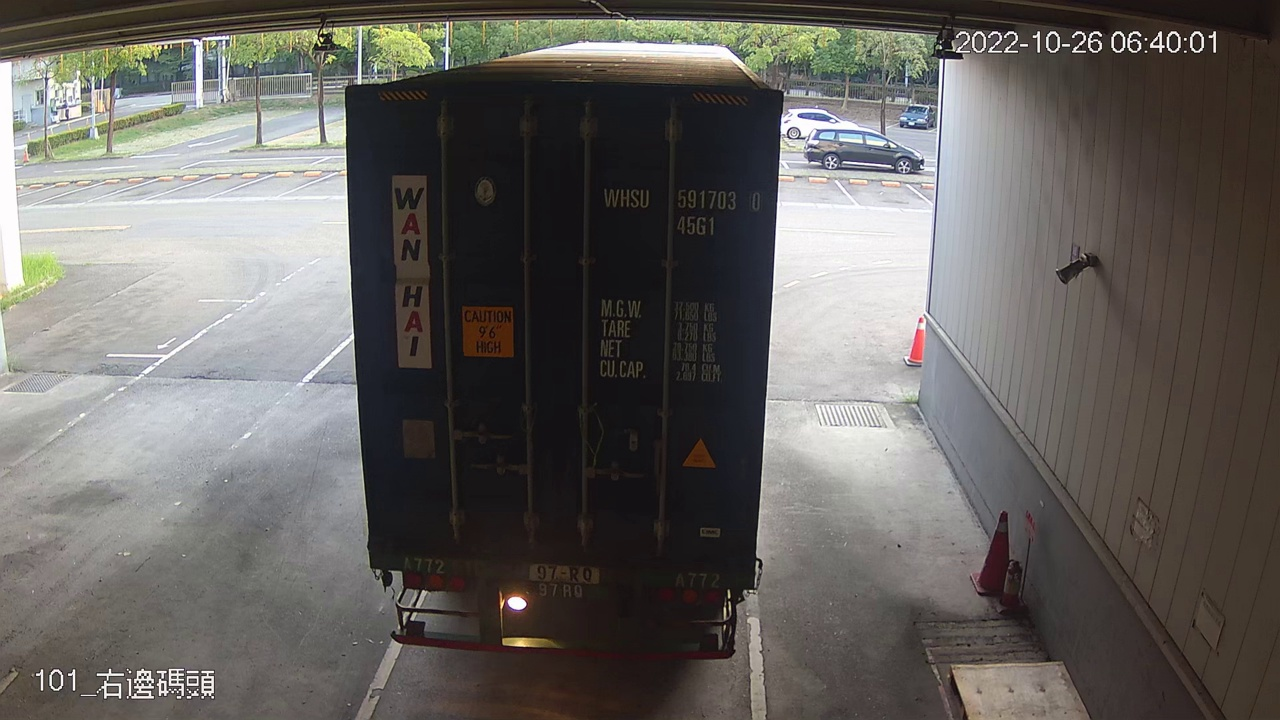container: (598, 178, 768, 242)
